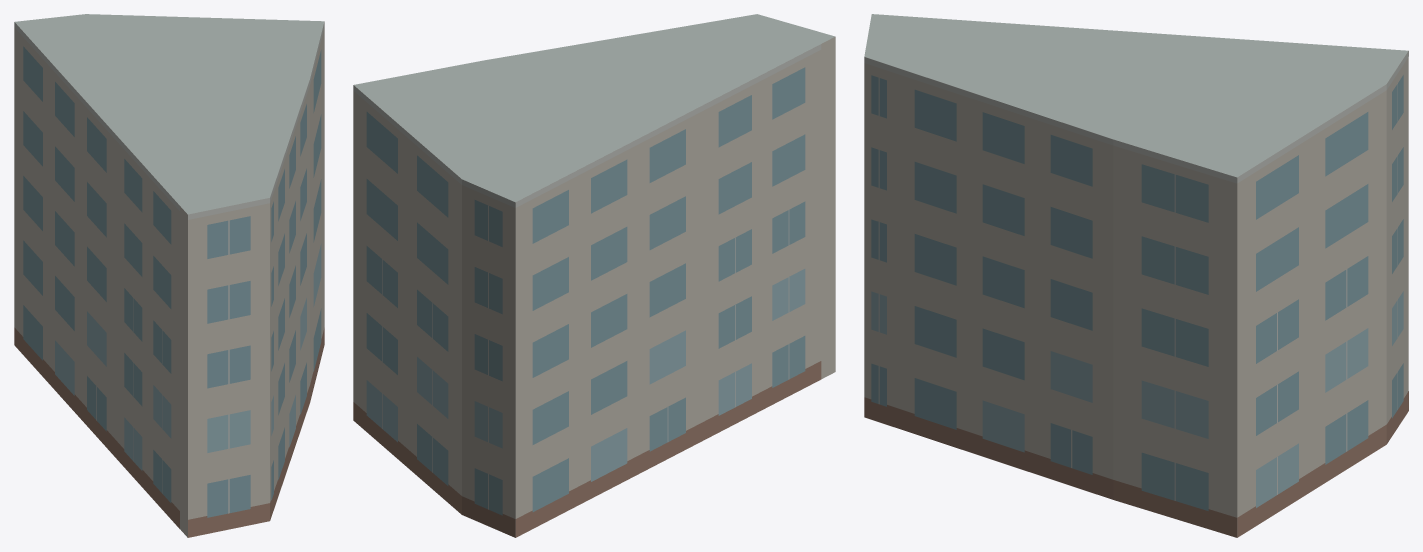
File: survey-upis-32775760.glb
3 views of the same model, side by side, from view 1: azimuth 30°, elevation 25°; view 2: azimuth 150°, elevation 25°; view 3: azimuth 270°, elevation 25° (orthographic). The views are drawn at different scales.
Visible parts, largest first — view 1: survey-upis-32775760.tmp; view 2: survey-upis-32775760.tmp; view 3: survey-upis-32775760.tmp.
Part boxes in pixels (x1,y1,x2,y2): survey-upis-32775760.tmp: [14, 14, 324, 537]; survey-upis-32775760.tmp: [353, 14, 835, 537]; survey-upis-32775760.tmp: [864, 14, 1408, 537].
Size of the model in its own units: 14.07 by 14.45 by 19.79.
